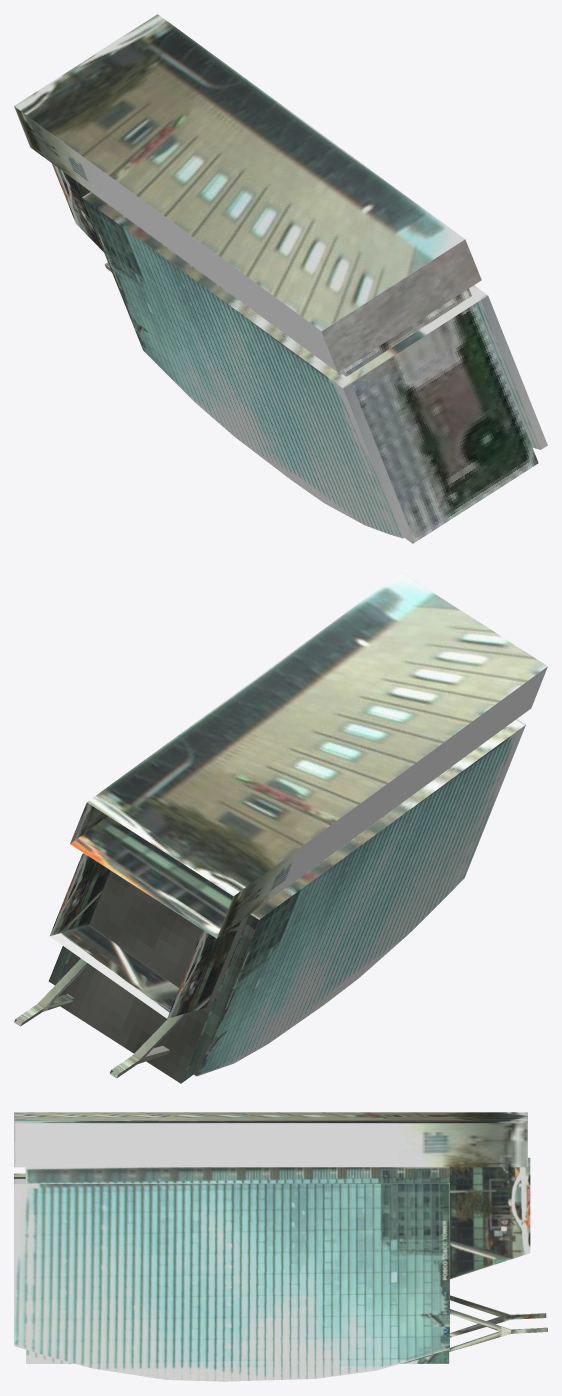
3 renders of one model, top to bottom at view 1: azimuth 30°, elevation 25°; view 2: azimuth 150°, elevation 25°; view 3: azimuth 270°, elevation 25°, orthographic. The views are drawn at different scales.
Visible parts, largest first — view 1: IndexedFaceSet__3_0, IndexedFaceSet__25_0, IndexedFaceSet__10_0, IndexedFaceSet__2_0, IndexedFaceSet__4_0, IndexedFaceSet__26_0, IndexedFaceSet__21_0, IndexedFaceSet__35_0, IndexedFaceSet__24_0, IndexedFaceSet__37_0, IndexedFaceSet__11_0; view 2: IndexedFaceSet__3_0, IndexedFaceSet__25_0, IndexedFaceSet__8_0, IndexedFaceSet__2_0, IndexedFaceSet__5_0, IndexedFaceSet__36_0, IndexedFaceSet__26_0, IndexedFaceSet__37_0, IndexedFaceSet__39_0, IndexedFaceSet__27_0; view 3: IndexedFaceSet__13_0, IndexedFaceSet, IndexedFaceSet__39_0, IndexedFaceSet__1_0, IndexedFaceSet__3_0, IndexedFaceSet__38_0, IndexedFaceSet__47_0, IndexedFaceSet__23_0.
Boxes of the visible parts, x1,y1,x2,y2 form: IndexedFaceSet__3_0: [14, 14, 464, 331]; IndexedFaceSet__25_0: [82, 197, 402, 538]; IndexedFaceSet__10_0: [343, 288, 538, 543]; IndexedFaceSet__2_0: [14, 106, 337, 372]; IndexedFaceSet__4_0: [322, 239, 481, 372]; IndexedFaceSet__26_0: [82, 192, 351, 388]; IndexedFaceSet__21_0: [91, 192, 480, 382]; IndexedFaceSet__35_0: [343, 383, 410, 538]; IndexedFaceSet__24_0: [481, 296, 547, 449]; IndexedFaceSet__37_0: [51, 163, 103, 251]; IndexedFaceSet__11_0: [475, 300, 540, 449]; IndexedFaceSet__3_0: [87, 572, 547, 896]; IndexedFaceSet__25_0: [197, 725, 525, 1076]; IndexedFaceSet__8_0: [58, 871, 247, 1083]; IndexedFaceSet__2_0: [217, 666, 547, 937]; IndexedFaceSet__5_0: [70, 816, 233, 938]; IndexedFaceSet__36_0: [50, 925, 178, 1018]; IndexedFaceSet__26_0: [251, 719, 525, 919]; IndexedFaceSet__37_0: [167, 921, 240, 1018]; IndexedFaceSet__39_0: [50, 853, 110, 935]; IndexedFaceSet__27_0: [188, 915, 258, 1076]; IndexedFaceSet__13_0: [14, 1184, 449, 1381]; IndexedFaceSet: [14, 1123, 527, 1167]; IndexedFaceSet__39_0: [449, 1166, 530, 1278]; IndexedFaceSet__1_0: [25, 1167, 449, 1363]; IndexedFaceSet__3_0: [14, 1112, 527, 1123]; IndexedFaceSet__38_0: [449, 1309, 510, 1351]; IndexedFaceSet__47_0: [450, 1295, 510, 1337]; IndexedFaceSet__23_0: [14, 1183, 449, 1183].
Size of the model in its own units: 23.36 by 29.84 by 54.
Materials: 38 (38 with a texture image).
